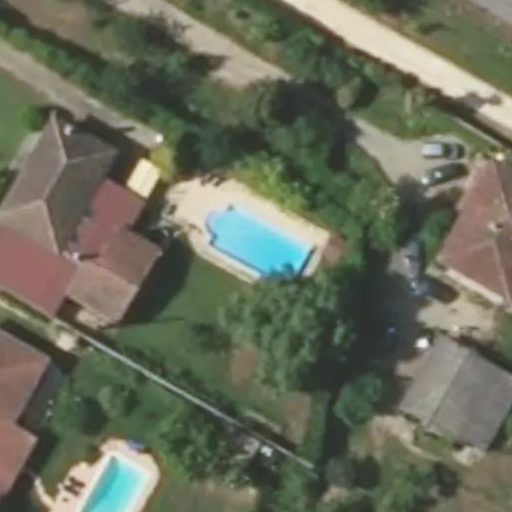pool: (202, 240, 309, 243)
